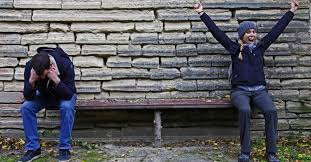Humano: (191, 1, 302, 162), (21, 45, 80, 162)
